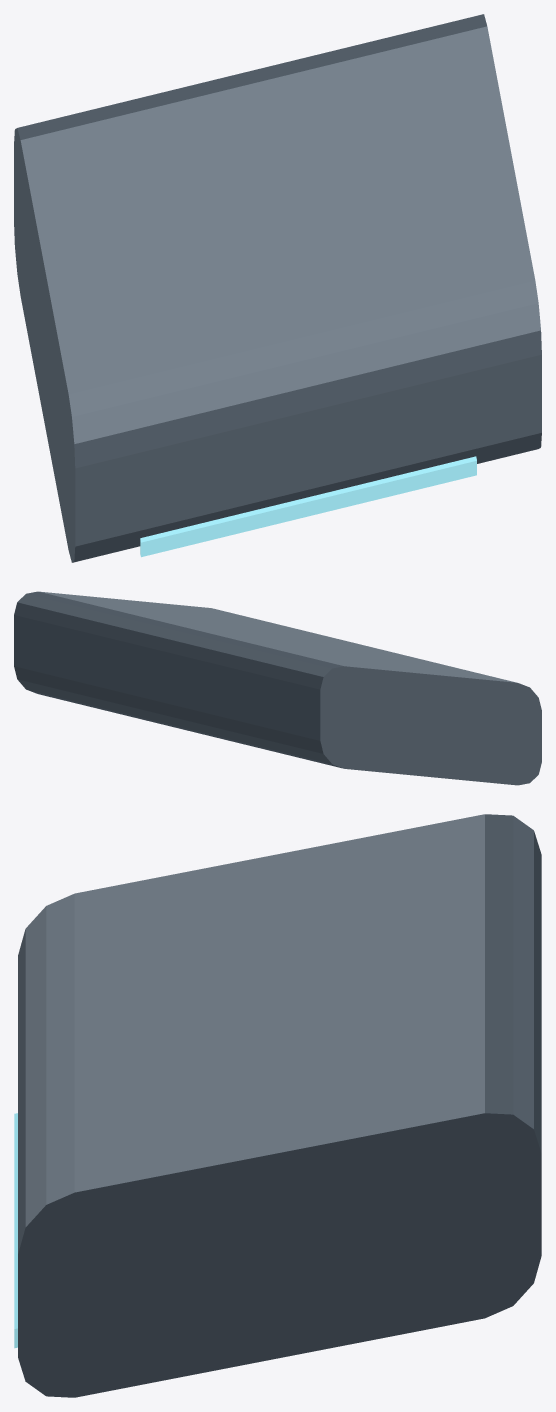
File: Door_Lintel.gltf
The picture shows the model from 3 angles, top to bottom: view 1: azimuth 30°, elevation 25°; view 2: azimuth 150°, elevation 25°; view 3: azimuth 270°, elevation 25°; orthographic projection. The views are drawn at different scales.
Parts seen in each view (by area): view 1: Door_Lintel_baked; view 2: Door_Lintel_baked; view 3: Door_Lintel_baked.
Part boxes in pixels (x1,y1,x2,y2): Door_Lintel_baked: [14, 14, 541, 562]; Door_Lintel_baked: [14, 591, 541, 785]; Door_Lintel_baked: [14, 814, 541, 1397].
Bounding box in the file's own units: 1.3 × 0.5626 × 0.745.
